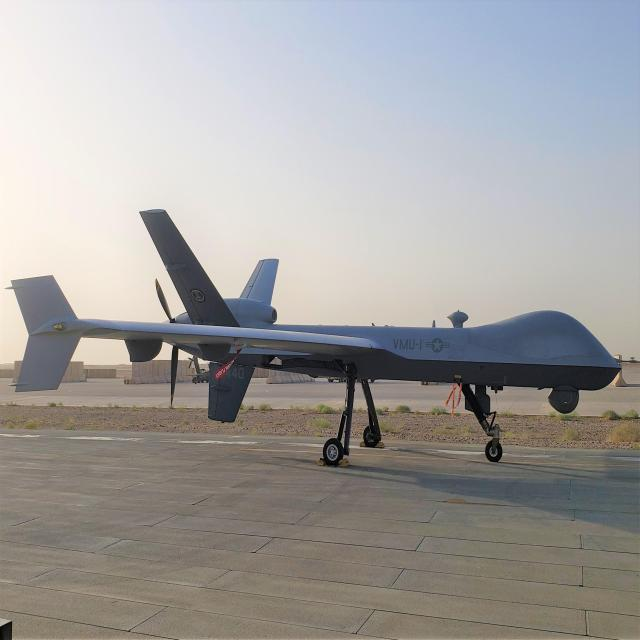MQ9: (8, 155, 635, 522)
